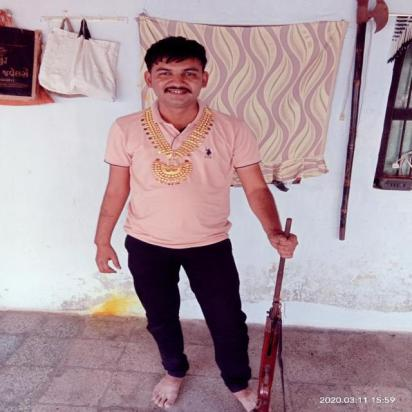Gun: (248, 216, 294, 412)
